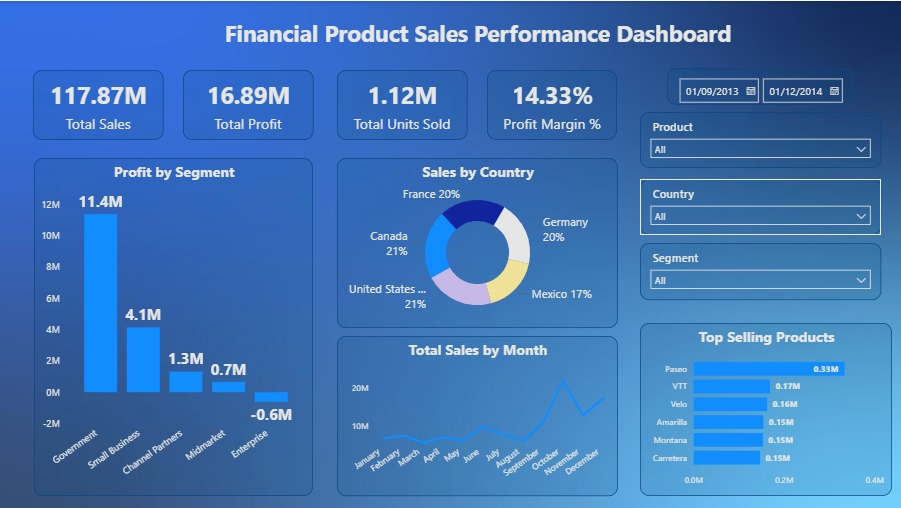

Layout of this report page (visuals, bound fields, positions):
{"tool":"powerbi","page":{"name":"Page 1","canvas":[1280,720],"ordinal":0},"visuals":[{"type":"card","fields":{"Values":["Financial Sample xlsx - Sheet1.Total Sales"]},"box":[47,97.4,184.8,99.1],"z":0},{"type":"textbox","box":[282,18.4,790.9,58.1],"z":1000},{"type":"card","fields":{"Values":["Financial Sample xlsx - Sheet1.Total Profit"]},"box":[258.7,97.4,184.8,99.1],"z":2000},{"type":"card","fields":{"Values":["Financial Sample xlsx - Sheet1.Total Units Sold"]},"box":[477.1,97.4,184.8,99.1],"z":3000},{"type":"lineChart","fields":{"Y":["Financial Sample xlsx - Sheet1.Total Sales"],"Category":["Financial Sample xlsx - Sheet1.Date.Variation.Date Hierarchy.Month"]},"box":[477.6,474.8,398.3,226.8],"z":5000},{"type":"clusteredBarChart","title":"Top Selling Products","fields":{"Category":["Financial Sample xlsx - Sheet1. Product "],"Y":["Financial Sample xlsx - Sheet1.Total Units Sold"]},"box":[907.1,456.4,357.2,245.2],"z":6000},{"type":"donutChart","title":"Sales by Country","fields":{"Category":["Financial Sample xlsx - Sheet1.Country"],"Y":["Financial Sample xlsx - Sheet1.Total Sales"]},"box":[477.6,222.5,398.3,240.9],"z":7000},{"type":"clusteredColumnChart","title":"Profit by Segment","fields":{"Category":["Financial Sample xlsx - Sheet1.Segment"],"Y":["Financial Sample xlsx - Sheet1.Total Profit"]},"box":[48.2,222.5,395.4,479.1],"z":8000},{"type":"slicer","fields":{"Values":["Financial Sample xlsx - Sheet1.Date"]},"box":[945.4,95,265,52.4],"z":9000},{"type":"slicer","fields":{"Values":["Financial Sample xlsx - Sheet1. Product "]},"box":[907.1,157.3,341.6,79.4],"z":10000},{"type":"slicer","fields":{"Values":["Financial Sample xlsx - Sheet1.Country"]},"box":[907.1,252.3,341.6,79.4],"z":11000},{"type":"slicer","fields":{"Values":["Financial Sample xlsx - Sheet1.Segment"]},"box":[907.1,343,341.6,80.8],"z":12000},{"type":"card","fields":{"Values":["Financial Sample xlsx - Sheet1.Test Margin"]},"box":[690.8,97.3,184.5,98.7],"z":12001}]}

Visuals, with their boxes in screenshot pixels (x1, y1, x2, y2), scaled from the page's 1280x720 canvas onto the 901x508 screenshot:
card - Financial Sample xlsx - Sheet1.Total Sales: left=33, top=69, right=163, bottom=139
textbox: left=199, top=13, right=755, bottom=54
card - Financial Sample xlsx - Sheet1.Total Profit: left=182, top=69, right=312, bottom=139
card - Financial Sample xlsx - Sheet1.Total Units Sold: left=336, top=69, right=466, bottom=139
lineChart - Financial Sample xlsx - Sheet1.Total Sales x Financial Sample xlsx - Sheet1.Date.Variation.Date Hierarchy.Month: left=336, top=335, right=617, bottom=495
"Top Selling Products" clusteredBarChart: left=639, top=322, right=890, bottom=495
"Sales by Country" donutChart: left=336, top=157, right=617, bottom=327
"Profit by Segment" clusteredColumnChart: left=34, top=157, right=312, bottom=495
slicer - Financial Sample xlsx - Sheet1.Date: left=665, top=67, right=852, bottom=104
slicer - Financial Sample xlsx - Sheet1. Product : left=639, top=111, right=879, bottom=167
slicer - Financial Sample xlsx - Sheet1.Country: left=639, top=178, right=879, bottom=234
slicer - Financial Sample xlsx - Sheet1.Segment: left=639, top=242, right=879, bottom=299
card - Financial Sample xlsx - Sheet1.Test Margin: left=486, top=69, right=616, bottom=138
